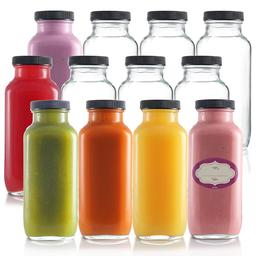glass: (16, 95, 85, 248), (131, 93, 195, 240), (72, 88, 133, 239), (187, 90, 244, 242), (196, 6, 256, 148), (56, 52, 118, 119), (172, 55, 228, 122), (117, 47, 169, 116)
